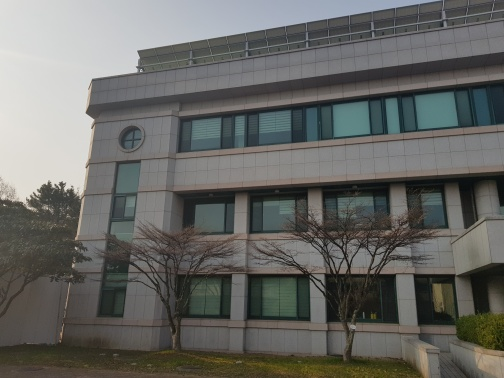Information Telecommunication Center: (49, 23, 503, 359), (81, 59, 170, 348)
